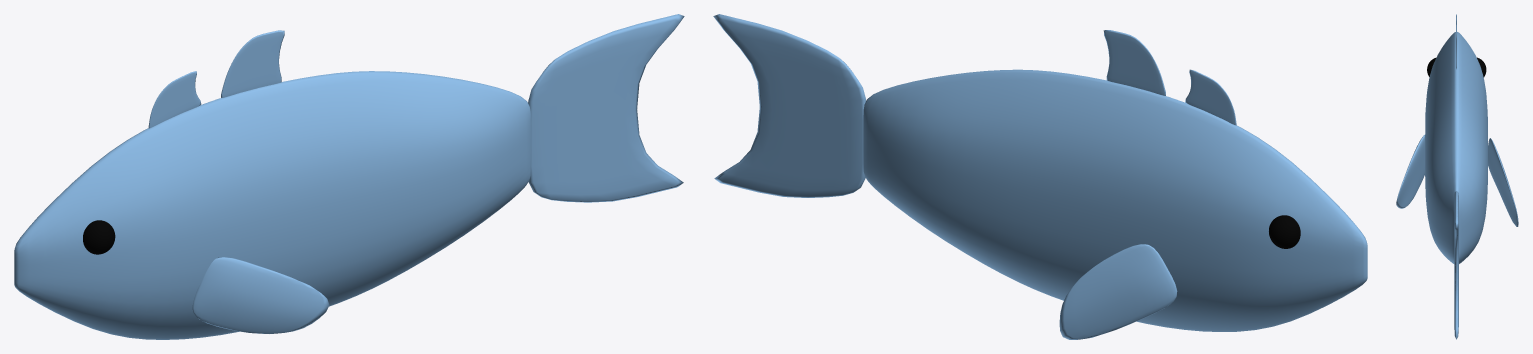
File: fish.fbx
3 views of the same model, side by side, from view 1: azimuth 30°, elevation 25°; view 2: azimuth 150°, elevation 25°; view 3: azimuth 270°, elevation 25° (orthographic). The views are drawn at different scales.
Parts seen in each view (by area): view 1: pCube8; view 2: pCube8; view 3: pCube8.
Part boxes in pixels (left/top/right/bottom): pCube8: left=14, top=14, right=684, bottom=339; pCube8: left=713, top=14, right=1367, bottom=339; pCube8: left=1396, top=14, right=1518, bottom=339.
Size of the model in its own units: 3.29 by 1.37 by 0.7571.
